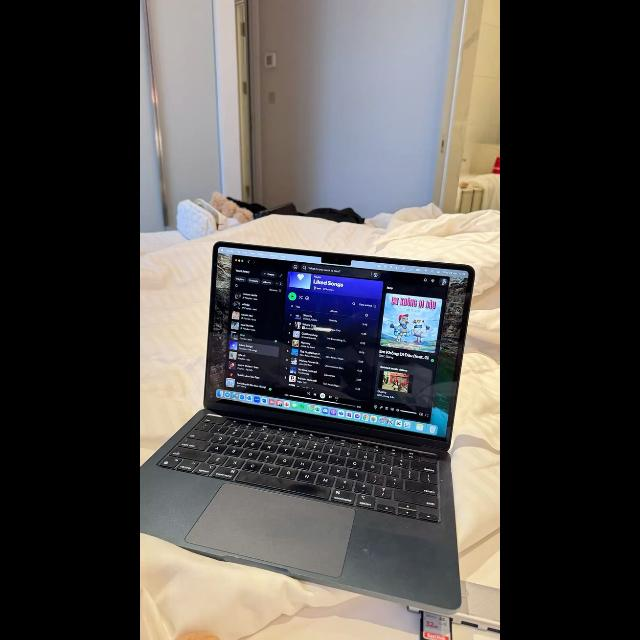laptop: (140, 240, 474, 609)
